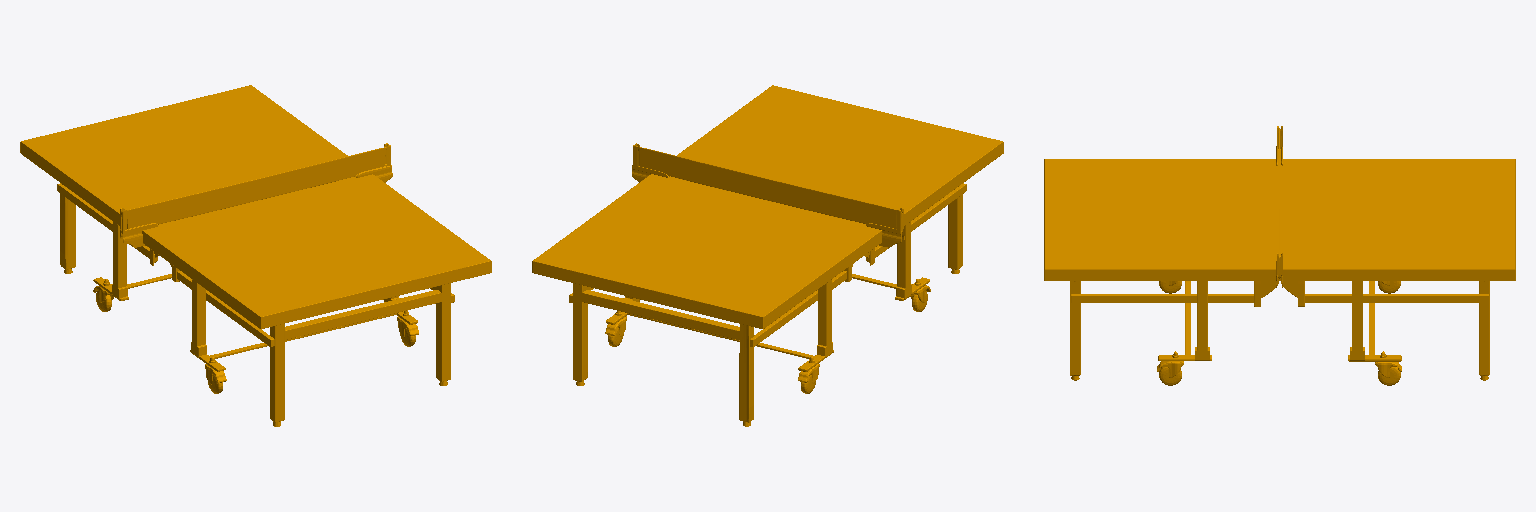
The robot description file, URDF, robot "table":
<?xml version="1.0" ?>
<robot name="table">
  <link concave="yes" name="baseLink">
    <visual>
      <origin rpy="0 0 0" xyz="0 0 0"/>
      <geometry>
        <mesh filename="table.obj"/>
      </geometry>
    </visual>
    <!-- Remove collision to prevent from being used for simulation (flipped normals, random bounce at edges, wrong height)
    <collision concave="yes">
      <origin rpy="0 0 0" xyz="0 0 0"/>
      <geometry>
        <mesh filename="table.stl"/>
      </geometry>
    </collision>
    -->
    <inertial>
      <!-- Static table -->
      <mass value="0"/>
      <origin rpy="0 0 0" xyz="0 0 0"/>
      <inertia ixx="0.0" ixy="0.0" ixz="0.0" iyy="0.0" iyz="0.0" izz="0.0"/>
    </inertial>
  </link>
</robot>

--- Facts derived from the render (not from the file) ---
3 views of the same robot in one strip: view 1: azimuth 30°, elevation 25°; view 2: azimuth 150°, elevation 25°; view 3: azimuth 270°, elevation 25° (orthographic).
Model table with 1 links and 0 joints (none), rooted at baseLink, posed every joint at zero.
Visible links, largest first — view 1: baseLink; view 2: baseLink; view 3: baseLink.
Link boxes in pixels (bbox=[...]): baseLink: bbox=[20, 85, 491, 426]; baseLink: bbox=[532, 85, 1003, 426]; baseLink: bbox=[1044, 126, 1515, 385].
Bounding box of the posed robot: 1.77 × 2.73 × 0.9527 m (x, y, z).
Meshes: 1 distinct files referenced, 1 mesh visuals loaded (1 OBJ).
